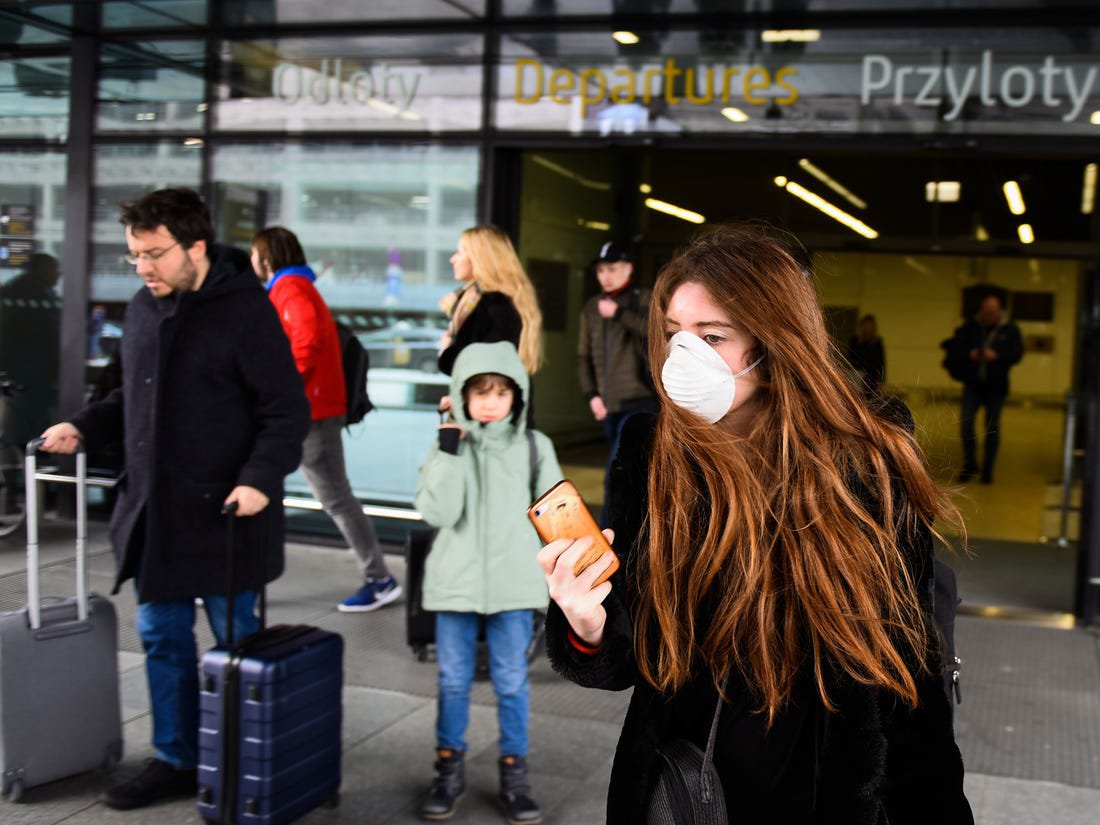mask: (650, 240, 812, 441)
noMask: (104, 186, 223, 307), (433, 343, 541, 427), (441, 226, 492, 286), (591, 233, 636, 296), (245, 227, 285, 276)
